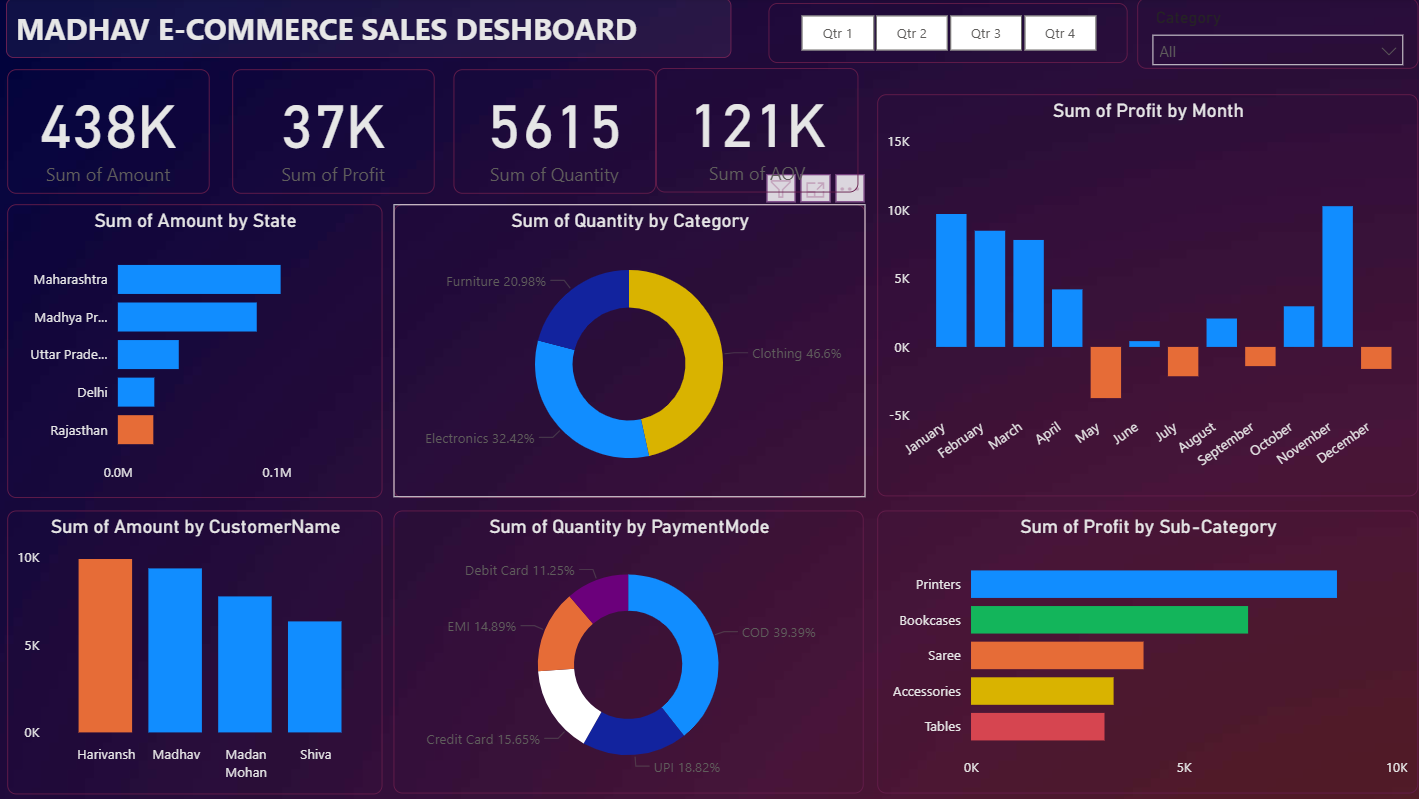

This screenshot's page, from the dashboard's own definition file:
{"tool":"powerbi","page":{"name":"Page 1","canvas":[1280,720],"ordinal":0},"visuals":[{"type":"columnChart","fields":{"Category":["Orders.Order Date.Variation.Date Hierarchy.Month"],"Y":["Details.Profit"]},"box":[787.7,86.4,483,359.5],"z":0},{"type":"textbox","box":[9.3,0,647.7,53.5],"z":1000},{"type":"clusteredBarChart","fields":{"Y":["Details.Profit"],"Category":["Details.Sub-Category"]},"box":[787.7,458.3,483,252.5],"z":2000},{"type":"donutChart","fields":{"Y":["Details.Quantity"],"Category":["Details.Category"]},"box":[355.4,183.9,421.3,262.1],"z":3000},{"type":"donutChart","fields":{"Y":["Details.Quantity"],"Category":["Details.PaymentMode"]},"box":[355.4,458.3,419.9,252.5],"z":4000},{"type":"clusteredBarChart","fields":{"Y":["Details.Amount"],"Category":["Orders.State"]},"box":[9.6,183.9,334.8,262.1],"z":5000},{"type":"card","fields":{"Values":["Details.Amount"]},"box":[9.6,63.1,181.1,111.1],"z":6000},{"type":"slicer","fields":{"Values":["Details.Category"]},"box":[1019.6,0,251.1,63.1],"z":7000},{"type":"slicer","fields":{"Values":["Orders.Order Date.Variation.Date Hierarchy.Quarter"]},"box":[687.5,0,321.1,63.1],"z":8000},{"type":"card","fields":{"Values":["Details.Profit"]},"box":[211.3,63.1,181.1,111.1],"z":9000},{"type":"card","fields":{"Values":["Details.Quantity"]},"box":[408.9,63.1,181.1,111.1],"z":10000},{"type":"card","fields":{"Values":["Details.AOV"]},"box":[590.1,62.7,181,111.2],"z":11000},{"type":"columnChart","fields":{"Category":["Orders.CustomerName"],"Y":["Details.Amount"]},"box":[10,457.6,335,253.7],"z":12000}]}

Visuals, with their boxes in screenshot pixels (x1, y1, x2, y2), scaled from the page's 1280x720 canvas onto the 1419x799 screenshot:
columnChart - Orders.Order Date.Variation.Date Hierarchy.Month x Details.Profit: {"left": 873, "top": 96, "right": 1409, "bottom": 495}
textbox: {"left": 10, "top": 0, "right": 728, "bottom": 59}
clusteredBarChart - Details.Profit x Details.Sub-Category: {"left": 873, "top": 509, "right": 1409, "bottom": 789}
donutChart - Details.Quantity x Details.Category: {"left": 394, "top": 204, "right": 861, "bottom": 495}
donutChart - Details.Quantity x Details.PaymentMode: {"left": 394, "top": 509, "right": 859, "bottom": 789}
clusteredBarChart - Details.Amount x Orders.State: {"left": 11, "top": 204, "right": 382, "bottom": 495}
card - Details.Amount: {"left": 11, "top": 70, "right": 211, "bottom": 193}
slicer - Details.Category: {"left": 1130, "top": 0, "right": 1409, "bottom": 70}
slicer - Orders.Order Date.Variation.Date Hierarchy.Quarter: {"left": 762, "top": 0, "right": 1118, "bottom": 70}
card - Details.Profit: {"left": 234, "top": 70, "right": 435, "bottom": 193}
card - Details.Quantity: {"left": 453, "top": 70, "right": 654, "bottom": 193}
card - Details.AOV: {"left": 654, "top": 70, "right": 855, "bottom": 193}
columnChart - Orders.CustomerName x Details.Amount: {"left": 11, "top": 508, "right": 382, "bottom": 789}
